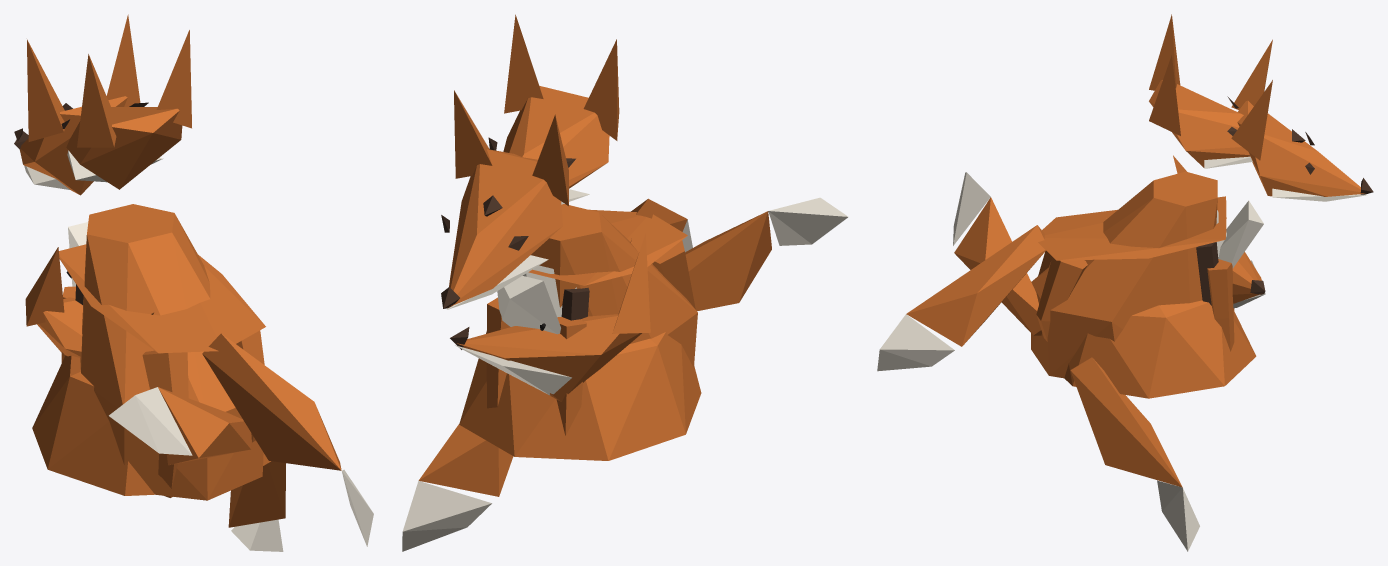
Rendered from pet_kit.glb.
3 renders of one model, left to right at view 1: azimuth 30°, elevation 25°; view 2: azimuth 150°, elevation 25°; view 3: azimuth 270°, elevation 25°, orthographic. The views are drawn at different scales.
Visible parts, largest first — view 1: body.001, head.001, tail, body.002, body, head, tail.001, tail.002, head.002, leg_br, leg_bl; view 2: body.002, head, head.002, head.001, body.001, tail.001, tail.002, body, leg_br, leg_fl, leg_fr, tail (+1 smaller); view 3: body.001, body.002, tail, head, tail.002, head.001, body, tail.001, leg_bl, leg_fl, head.002, leg_fl.001.
Part boxes in pixels (x1,y1,x2,y2): body.001: (80,204,263,500); head.001: (61,30,191,189); tail: (202,333,373,546); body.002: (32,355,270,495); body: (59,222,265,353); head: (14,14,140,195); tail.001: (109,387,251,465); tail.002: (228,461,285,551); head.002: (25,247,153,357); leg_br: (142,350,188,497); leg_bl: (236,330,264,442); body.002: (459,331,701,460); head: (441,90,568,309); head.002: (450,233,650,401); head.001: (483,14,619,216); body.001: (523,204,697,367); tail.001: (685,197,848,311); tail.002: (402,424,513,551); body: (497,209,687,334); leg_br: (652,240,695,309); leg_fl: (486,297,510,408); leg_fr: (556,317,586,435); tail: (630,198,692,252); body.001: (1031,171,1226,378); body.002: (1064,300,1256,398); tail: (877,225,1045,371); head: (1231,39,1373,201); tail.002: (1070,357,1199,551); head.001: (1149,14,1305,168); body: (1038,196,1263,268); tail.001: (953,172,1041,335); leg_bl: (1036,257,1087,341); leg_fl: (1207,259,1234,351); head.002: (1106,155,1265,308); leg_fl.001: (1196,242,1218,305).
Size of the model in its own units: 0.3825 by 0.654 by 0.6454.
